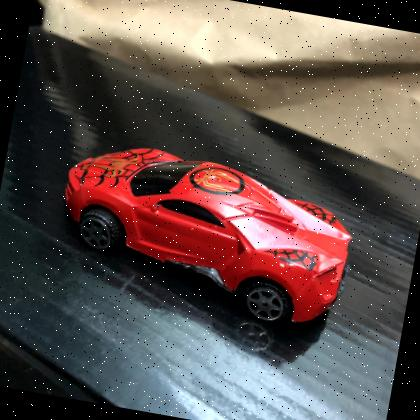Car: (64, 148, 352, 325)
